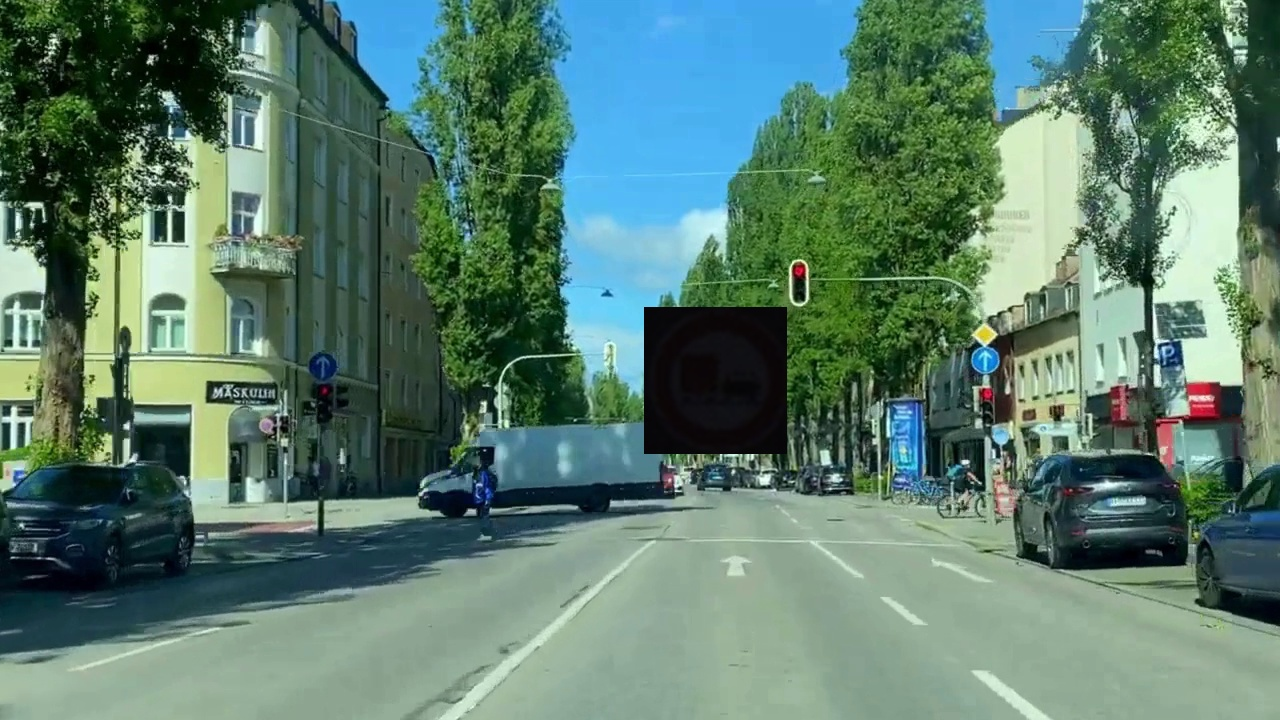No pass >3.5t: (644, 307, 787, 454)
